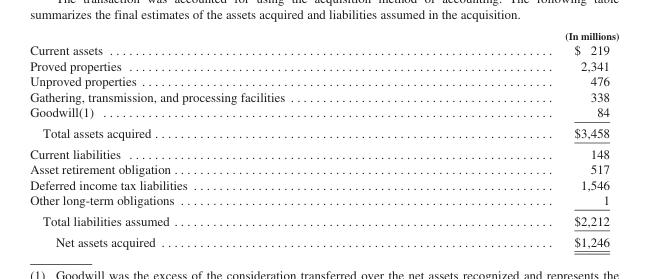table: (29, 29, 618, 248)
table column: (29, 29, 424, 248), (424, 29, 618, 248)
table column header: (29, 29, 618, 42)
table row: (29, 122, 618, 143), (29, 210, 618, 230), (29, 104, 618, 122), (29, 143, 618, 161), (29, 192, 618, 210), (29, 230, 618, 248), (29, 57, 618, 73), (29, 88, 618, 104), (29, 176, 618, 192), (29, 42, 618, 57), (29, 73, 618, 88), (29, 161, 618, 176), (29, 29, 618, 42)
